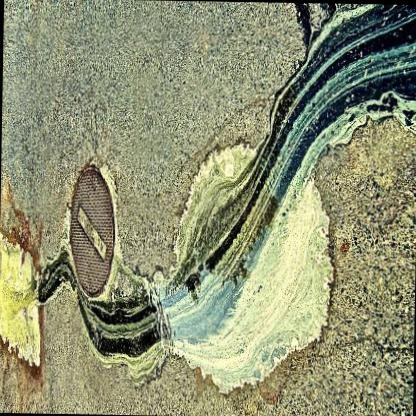manholes: (60, 150, 125, 297)
